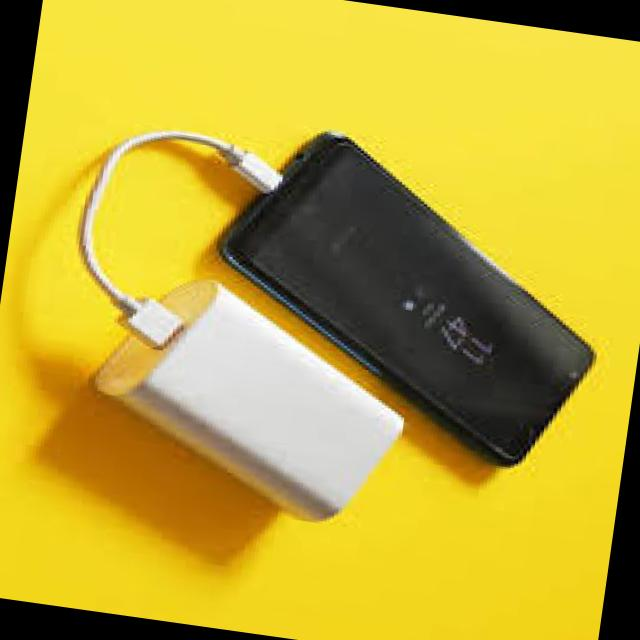portable-charger: (70, 262, 424, 536)
